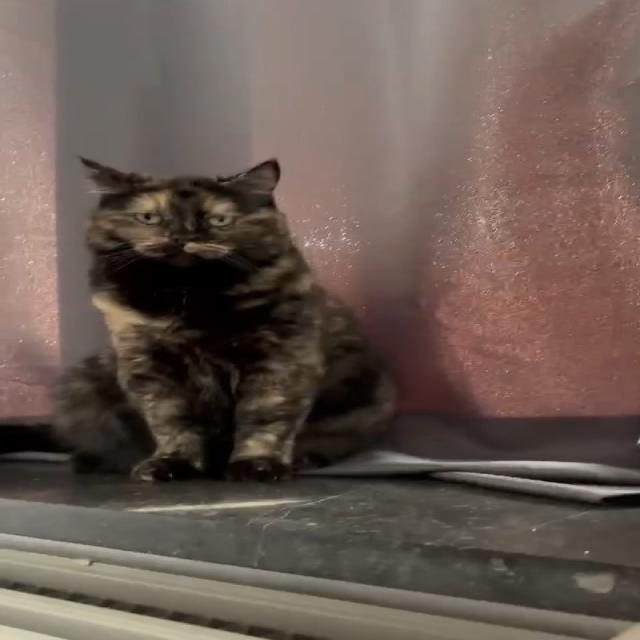authorized: (48, 155, 400, 483)
